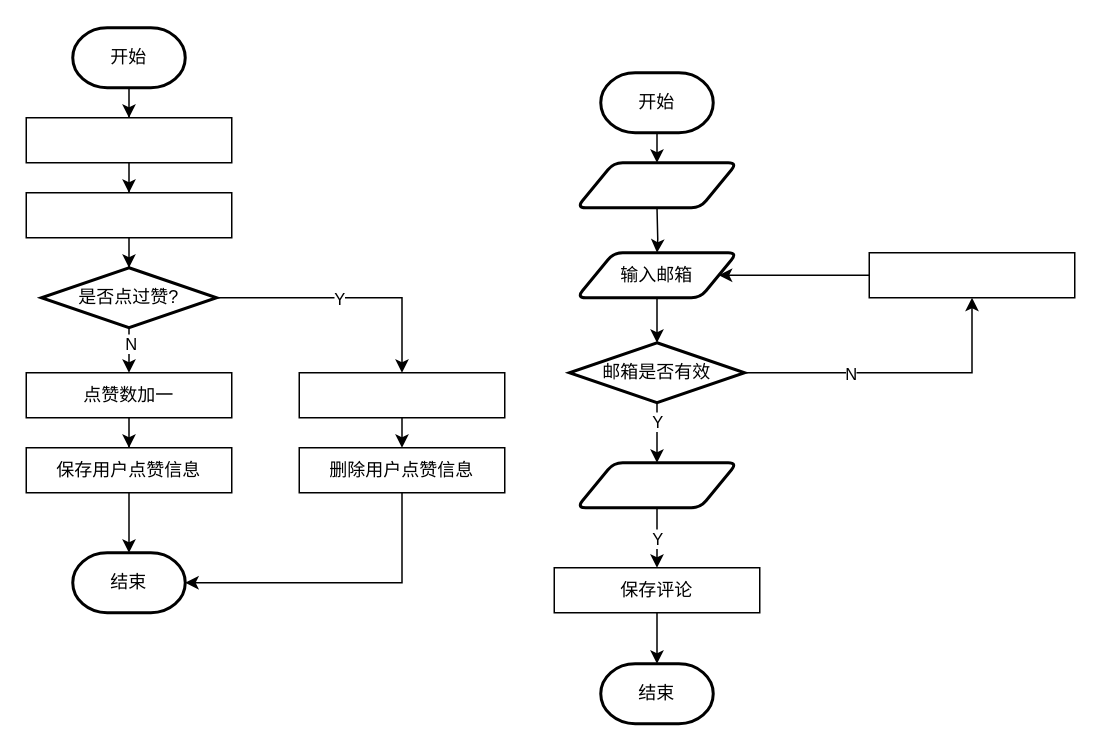
Image size: 1101x750. Some labels were removed from this diagram. Here are the shapes that lost their labels. From the top down, the centre of each, then its label:
At [128,139]: "选择博客".
At [656,184]: "选择文章".
At [128,214]: "点击点赞按钮".
At [971,274]: "提示标签已存在".
At [401,394]: "点赞数减一".
At [656,484]: "输入评论内容".
